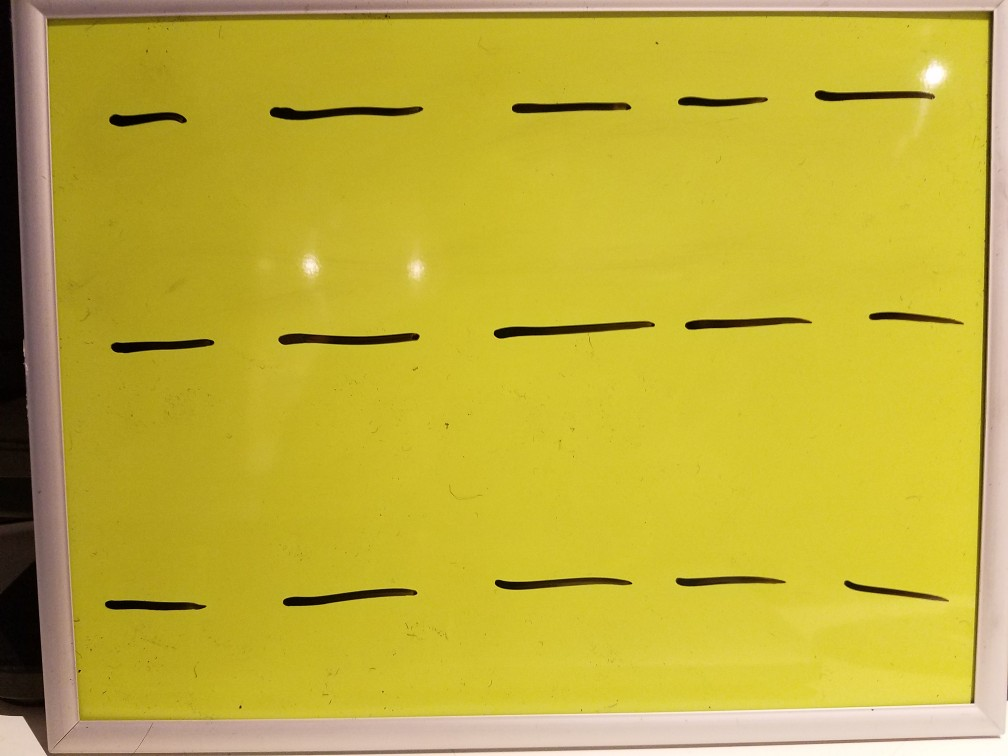-: (829, 542, 957, 644), (274, 560, 440, 638), (468, 548, 638, 622), (479, 295, 658, 358), (658, 545, 805, 615), (89, 575, 216, 650), (259, 86, 430, 138), (274, 317, 432, 364), (801, 74, 951, 118), (101, 318, 226, 369), (680, 304, 818, 350), (663, 75, 775, 130), (865, 295, 970, 348), (104, 88, 193, 147), (504, 88, 634, 127)
